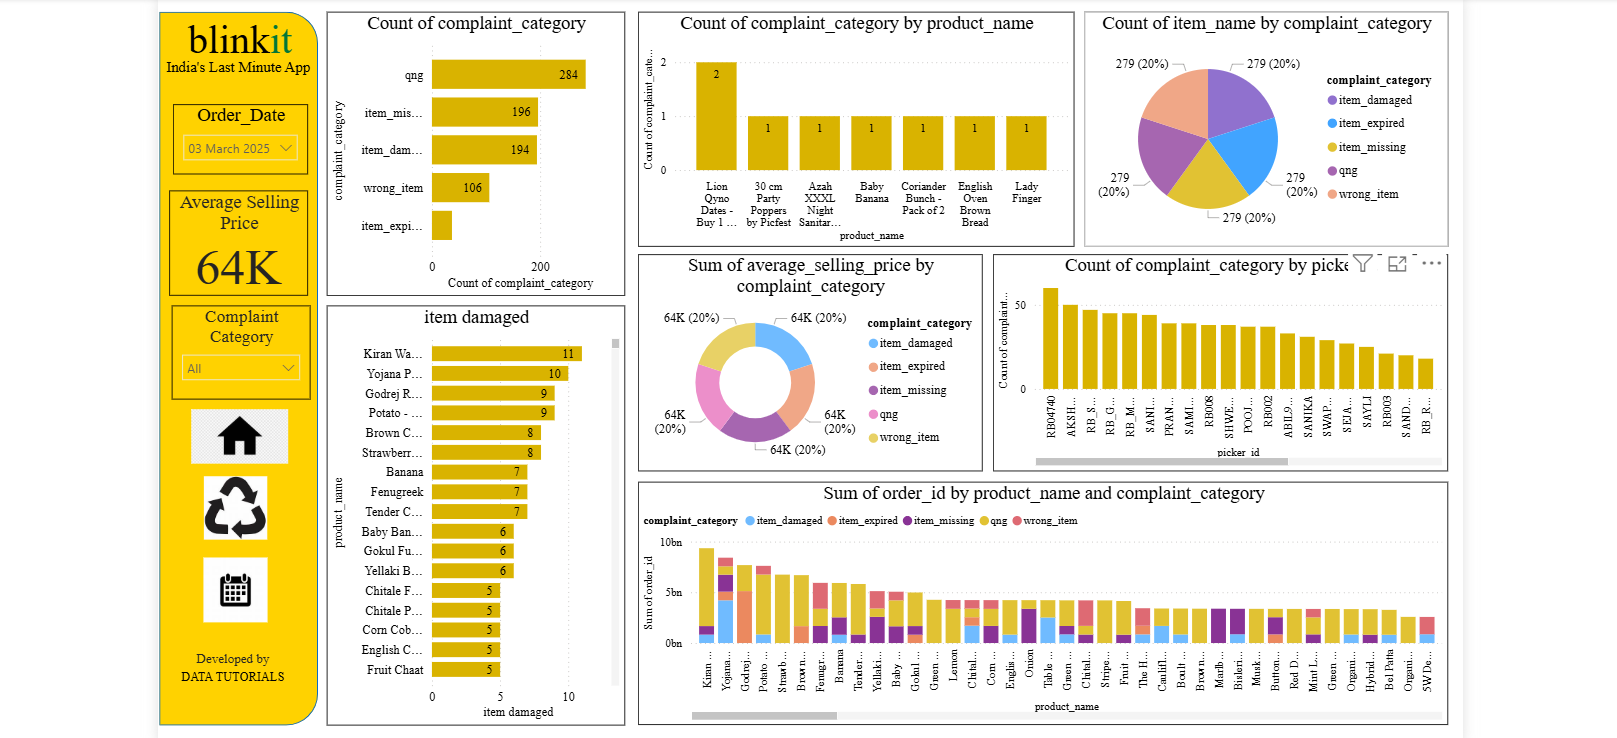

The dashboard page shown, as its layout file describes it:
{"tool":"powerbi","page":{"name":"Page 2","canvas":[1400,800],"ordinal":1},"visuals":[{"type":"shape","box":[1.3,14.7,170.2,765.4],"z":0},{"type":"textbox","box":[0,15,154.6,79.5],"z":1000},{"type":"textbox","box":[3,60,166.6,54],"z":2000},{"type":"clusteredColumnChart","title":"Count of complaint_category by picker id","fields":{"Category":["complaints.picker_id"],"Y":["CountNonNull(complaints.complaint_category)"]},"box":[896,274.7,487.8,232.6],"z":3000},{"type":"barChart","title":"Count of complaint_category","fields":{"Category":["complaints.complaint_category"],"Y":["CountNonNull(complaints.complaint_category)"]},"box":[181.6,15,319.7,304.7],"z":4000},{"type":"clusteredBarChart","title":"item damaged","fields":{"Y":["complaints.item damaged"],"Category":["complaints.product_name"]},"box":[181.6,330.2,319.7,450.3],"z":5000},{"type":"clusteredColumnChart","fields":{"Y":["CountNonNull(orders_with_missing_complaint.complaint_category)"],"Category":["orders_with_missing_complaint.product_name"]},"box":[514.7,14.7,467.8,252],"z":6000},{"type":"donutChart","fields":{"Y":["Sum(orders_with_pna.average_selling_price)"],"Category":["complaints.complaint_category"]},"box":[514.8,274.7,369.2,232.6],"z":7000},{"type":"pieChart","fields":{"Category":["complaints.complaint_category"],"Y":["CountNonNull(orders_with_pna.item_name)"]},"box":[993.6,15,390.2,252.1],"z":8000},{"type":"columnChart","fields":{"Category":["complaints.product_name"],"Y":["Sum(complaints.order_id)"],"Series":["complaints.complaint_category"]},"box":[514.8,519.3,869,261.2],"z":9000},{"type":"slicer","title":"Order_Date","fields":{"Values":["orders_with_missing_complaint.order_date"]},"box":[16.1,113.9,144.8,75.1],"z":10000},{"type":"card","title":"Average Selling Price","fields":{"Values":["Sum(orders_with_pna.average_selling_price)"]},"box":[12.1,206.4,148.8,112.6],"z":11000},{"type":"image","box":[30.8,433,113.9,75.1],"z":12000},{"type":"image","box":[22.8,508,120.6,77.7],"z":13000},{"type":"image","box":[33.5,595.2,99.2,79.1],"z":14000},{"type":"textbox","box":[17.4,694.4,126,67],"z":15000},{"type":"slicer","title":"Complaint Category","fields":{"Values":["complaints.complaint_category"]},"box":[14.7,329.8,148.8,100.5],"z":16000}]}

Visuals, with their boxes in screenshot pixels (x1, y1, x2, y2):
shape: locate(165, 22, 320, 717)
textbox: locate(164, 22, 305, 94)
textbox: locate(167, 63, 318, 112)
"Count of complaint_category by picker id" clusteredColumnChart: locate(978, 258, 1421, 469)
"Count of complaint_category" barChart: locate(329, 22, 620, 299)
"item damaged" clusteredBarChart: locate(329, 308, 620, 717)
clusteredColumnChart - CountNonNull(orders_with_missing_complaint.complaint_category) x orders_with_missing_complaint.product_name: locate(632, 22, 1057, 251)
donutChart - Sum(orders_with_pna.average_selling_price) x complaints.complaint_category: locate(632, 258, 967, 469)
pieChart - complaints.complaint_category x CountNonNull(orders_with_pna.item_name): locate(1067, 22, 1421, 251)
columnChart - complaints.product_name x Sum(complaints.order_id): locate(632, 480, 1421, 717)
"Order_Date" slicer: locate(179, 112, 310, 180)
"Average Selling Price" card: locate(175, 196, 310, 298)
image: locate(192, 402, 296, 470)
image: locate(185, 470, 294, 540)
image: locate(195, 549, 285, 621)
textbox: locate(180, 639, 294, 700)
"Complaint Category" slicer: locate(178, 308, 313, 399)
